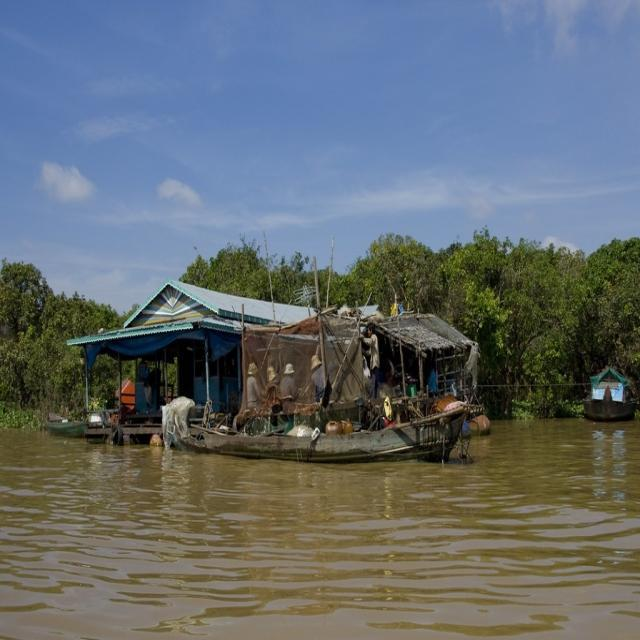Hyacinth: (1, 410, 44, 433)
boat: (169, 396, 464, 468), (580, 372, 633, 429)
